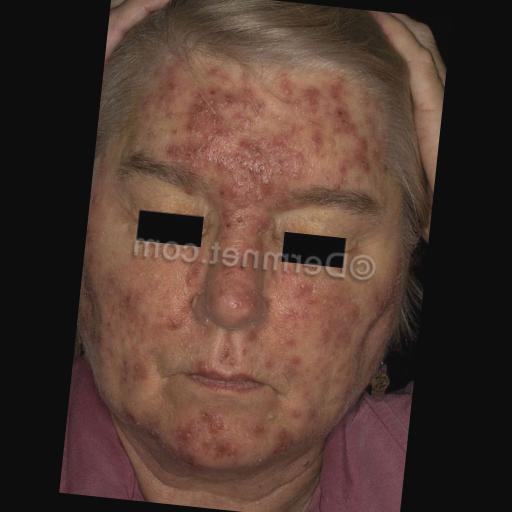Skin_Lesion: (165, 419, 231, 469), (225, 88, 271, 136), (115, 338, 143, 407), (336, 142, 380, 182), (189, 80, 224, 130), (238, 145, 281, 183), (162, 135, 214, 166), (291, 276, 321, 316), (232, 194, 258, 239), (227, 276, 261, 310), (118, 276, 141, 326), (268, 418, 288, 468), (328, 83, 350, 127), (316, 324, 344, 358), (292, 407, 322, 435), (156, 68, 182, 100), (282, 338, 306, 369), (346, 296, 364, 325), (364, 106, 382, 135), (310, 123, 326, 155), (280, 76, 294, 110), (218, 183, 227, 203)
